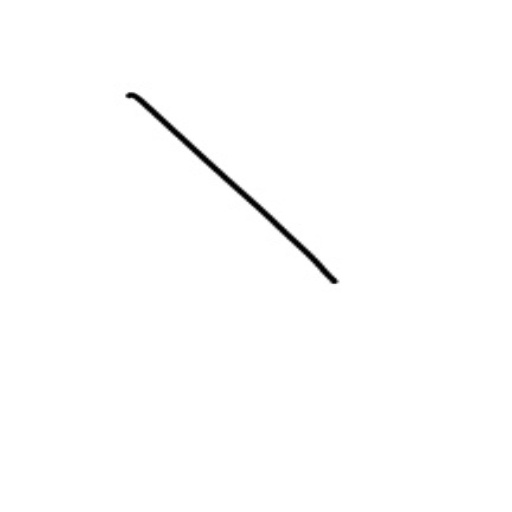line: (118, 78, 347, 292)
